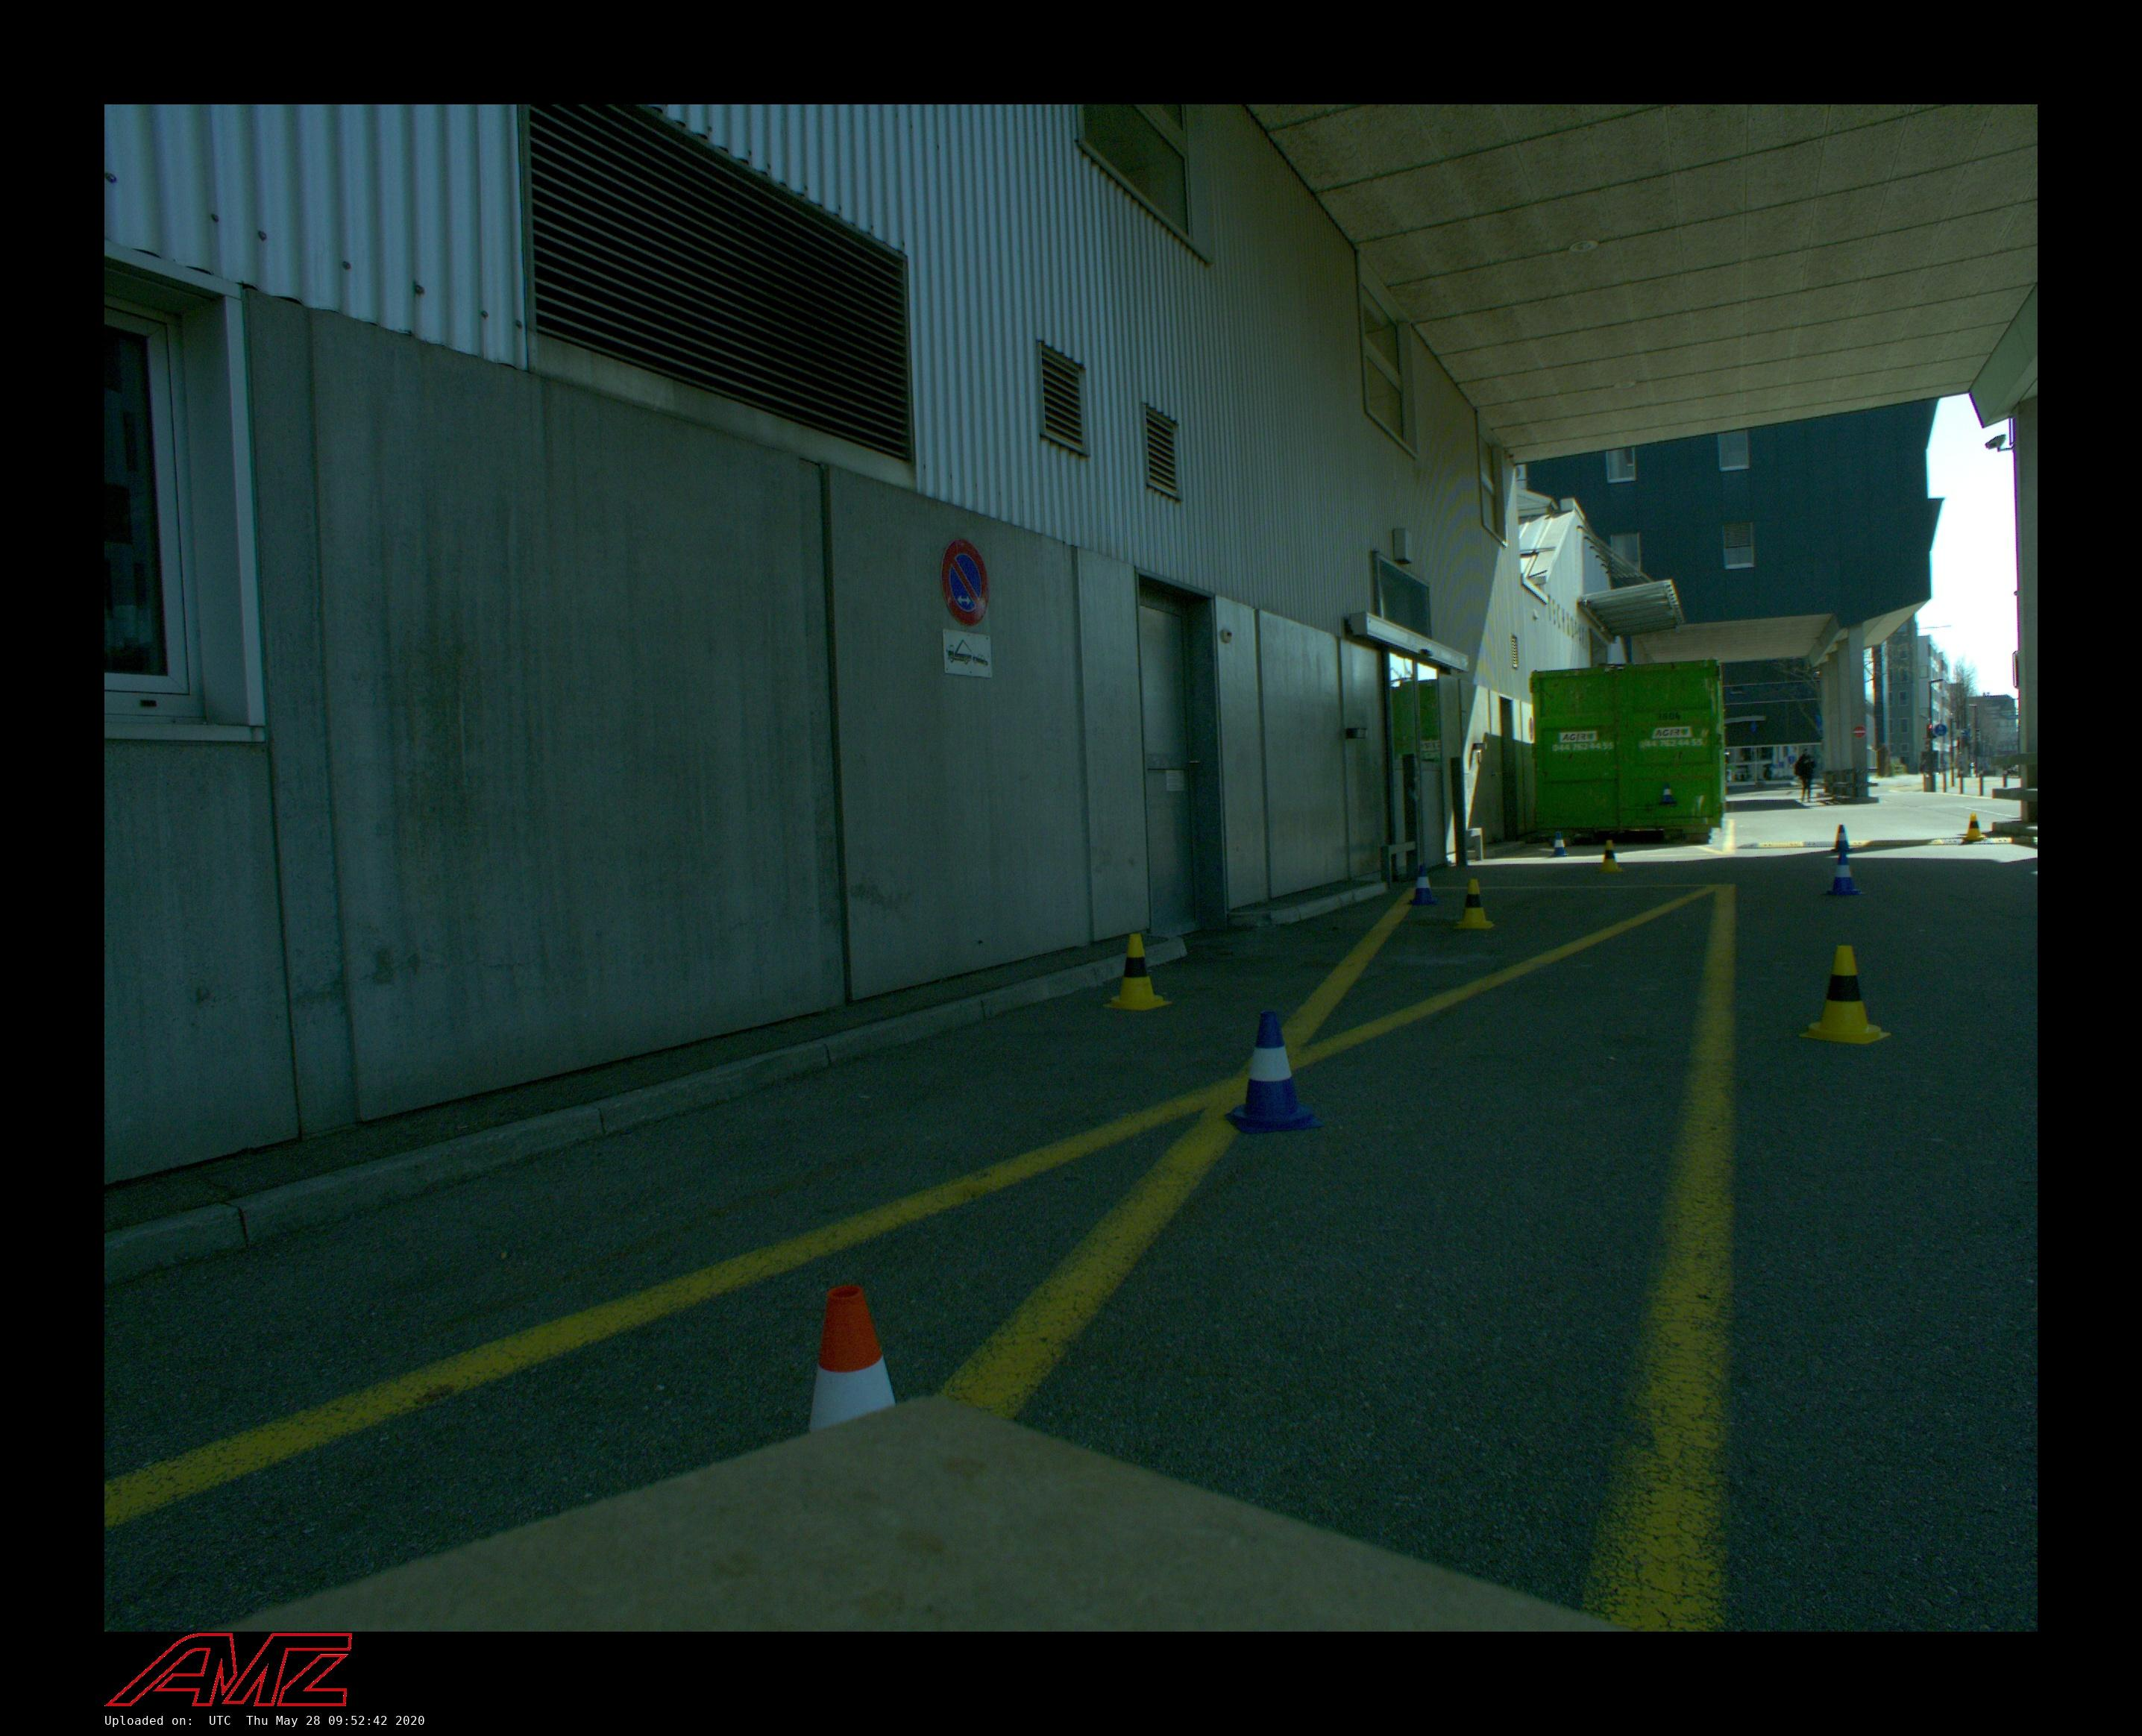blue_cone: (1226, 1013, 1323, 1134), (1407, 864, 1439, 905), (1828, 854, 1859, 896), (1548, 831, 1570, 859), (1832, 825, 1851, 852)
orange_cone: (806, 1284, 900, 1438)
yellow_cone: (1797, 946, 1892, 1045), (1102, 934, 1173, 1011), (1453, 879, 1495, 930), (1598, 840, 1621, 873), (1963, 813, 1984, 840)
